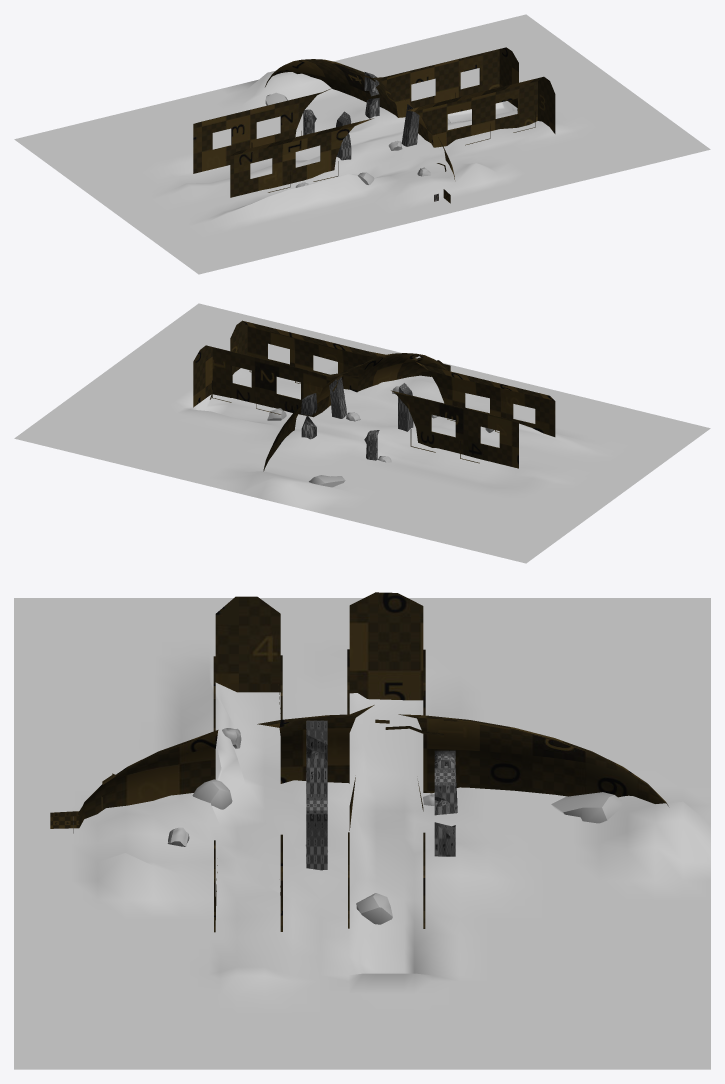
File: fifthTemple_stonesAndDoor.fbx
3 renders of one model, top to bottom at view 1: azimuth 30°, elevation 25°; view 2: azimuth 150°, elevation 25°; view 3: azimuth 270°, elevation 25°, orthographic. The views are drawn at different scales.
Parts seen in each view (by area): view 1: OceanFloor, Dome, Pillar_1, Pillar_2, Pillar_4; view 2: OceanFloor, Dome, Pillar_2, Pillar_1, Pillar_4; view 3: OceanFloor, Dome, Pillar_2, Pillar_1, Pillar_4, Stone, Stone6, Stone3.
Part boxes in pixels (bbox=[...]): OceanFloor: bbox=[14, 14, 710, 274]; Dome: bbox=[193, 47, 555, 203]; Pillar_1: bbox=[401, 104, 419, 146]; Pillar_2: bbox=[364, 72, 379, 118]; Pillar_4: bbox=[336, 111, 351, 160]; OceanFloor: bbox=[14, 303, 710, 563]; Dome: bbox=[193, 320, 555, 471]; Pillar_2: bbox=[301, 393, 317, 439]; Pillar_1: bbox=[329, 377, 347, 418]; Pillar_4: bbox=[398, 383, 413, 431]; OceanFloor: bbox=[14, 598, 710, 1069]; Dome: bbox=[50, 592, 668, 932]; Pillar_2: bbox=[434, 768, 457, 856]; Pillar_1: bbox=[306, 794, 327, 870]; Pillar_4: bbox=[306, 720, 327, 793]; Stone: bbox=[551, 792, 622, 823]; Stone6: bbox=[356, 893, 392, 924]; Stone3: bbox=[192, 779, 232, 809].
Size of the model in its own units: 118 by 16.75 by 73.61.
